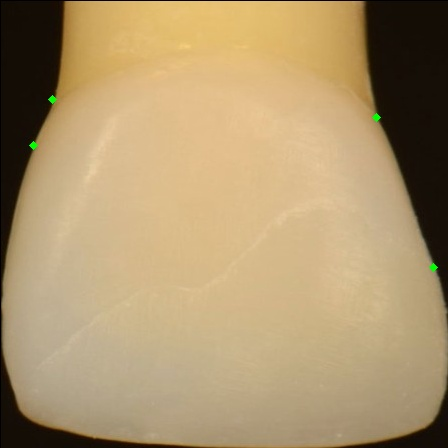coin_1: (376, 117, 396, 138)
coin_2: (433, 267, 448, 287)
coin_3: (52, 99, 72, 119)
coin_4: (33, 145, 53, 165)
